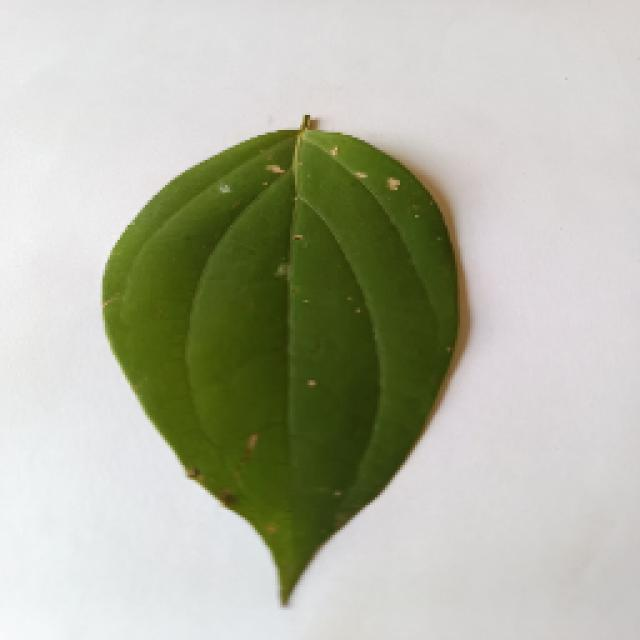pollu-disease: (95, 118, 455, 600)
